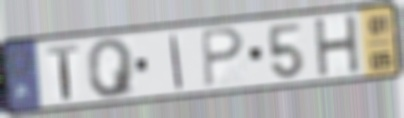5: (265, 20, 308, 80)
H: (311, 12, 363, 80)
I: (168, 33, 185, 91)
P: (199, 26, 247, 91)
Q: (84, 36, 138, 101)
T: (45, 43, 81, 102)
